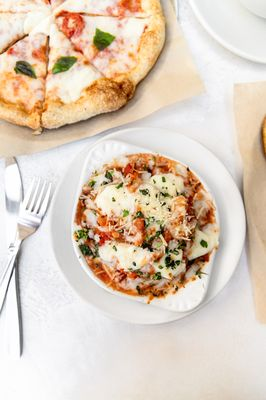burger: (1, 177, 55, 356)
